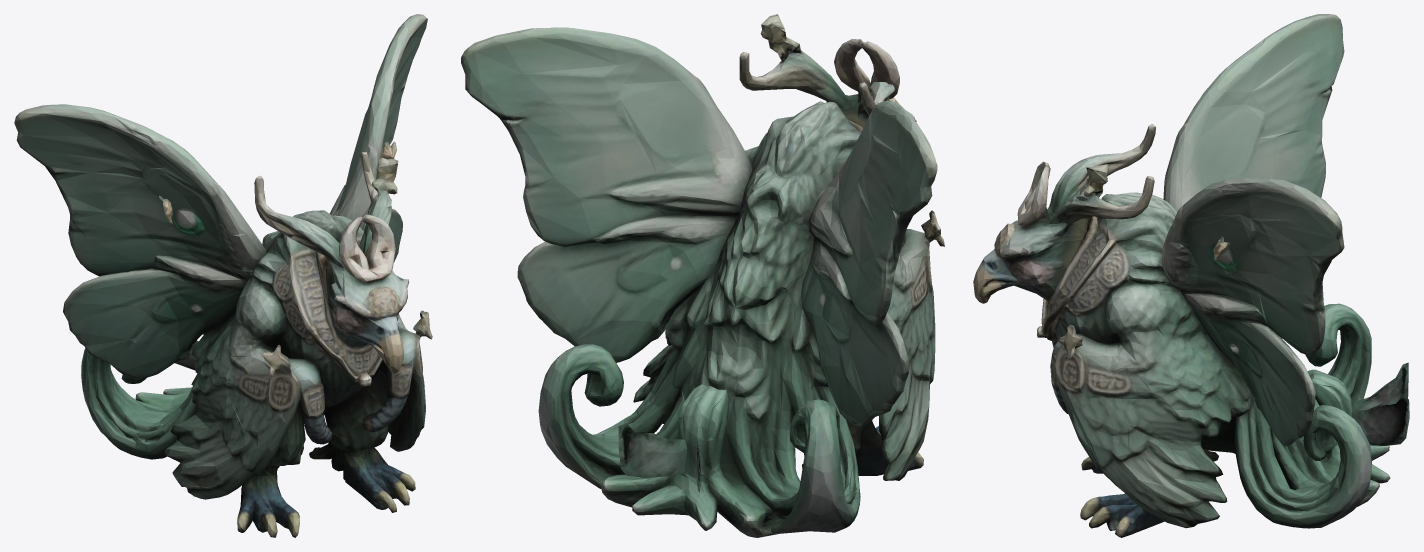
File: lumoth__lunaMother.glb
The picture shows the model from 3 angles, left to right: view 1: azimuth 30°, elevation 25°; view 2: azimuth 150°, elevation 25°; view 3: azimuth 270°, elevation 25°; orthographic projection. The views are drawn at different scales.
Visible parts, largest first — view 1: world; view 2: world; view 3: world.
Boxes of the visible parts, <box> form: world: <box>14,14,432,537</box>; world: <box>461,14,944,537</box>; world: <box>973,14,1409,537</box>.
Bounding box in the file's own units: 0.8885 × 0.7913 × 0.7971.
Materials: 1 (1 with a texture image).
